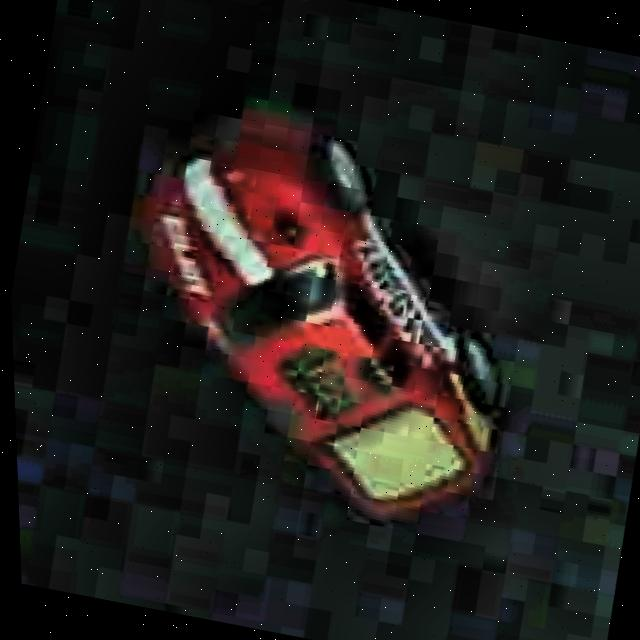car: (91, 84, 555, 542)
